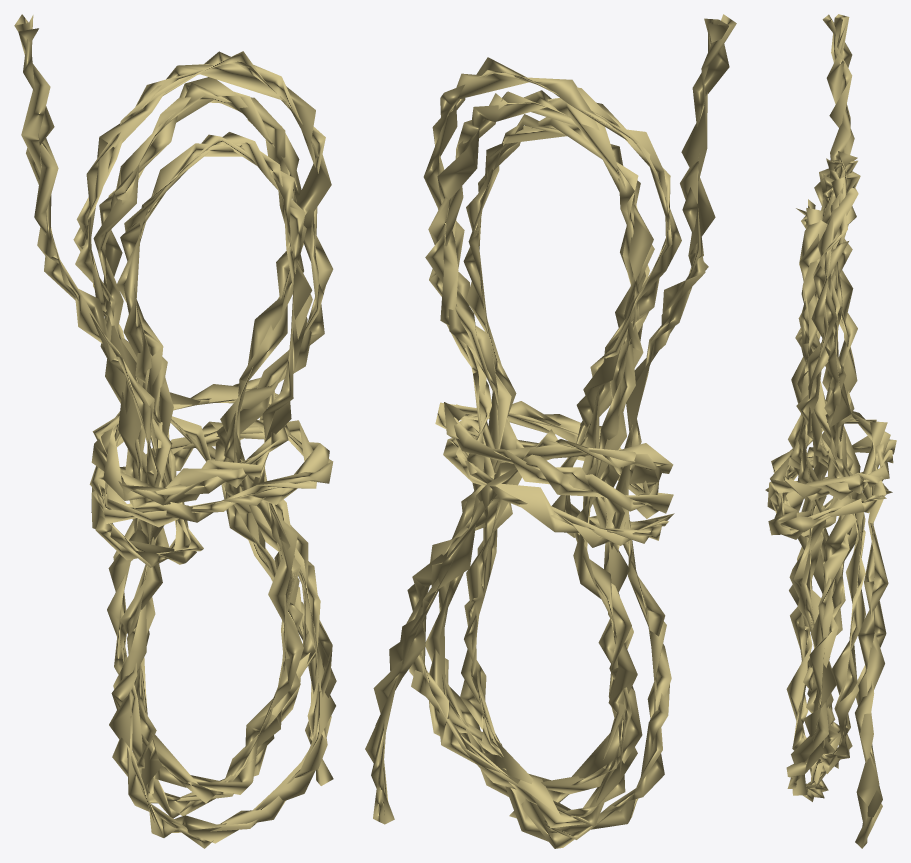
The model's file is rope_coil_lod1.glb.
3 renders of one model, left to right at view 1: azimuth 30°, elevation 25°; view 2: azimuth 150°, elevation 25°; view 3: azimuth 270°, elevation 25°, orthographic. The views are drawn at different scales.
Visible parts, largest first — view 1: rope_coil; view 2: rope_coil; view 3: rope_coil.
Part boxes in pixels (x1=…): rope_coil: x1=14, y1=14, x2=336, y2=848; rope_coil: x1=365, y1=14, x2=736, y2=848; rope_coil: x1=765, y1=14, x2=896, y2=848.
Bounding box in the file's own units: 0.1388 × 0.3398 × 0.057.
